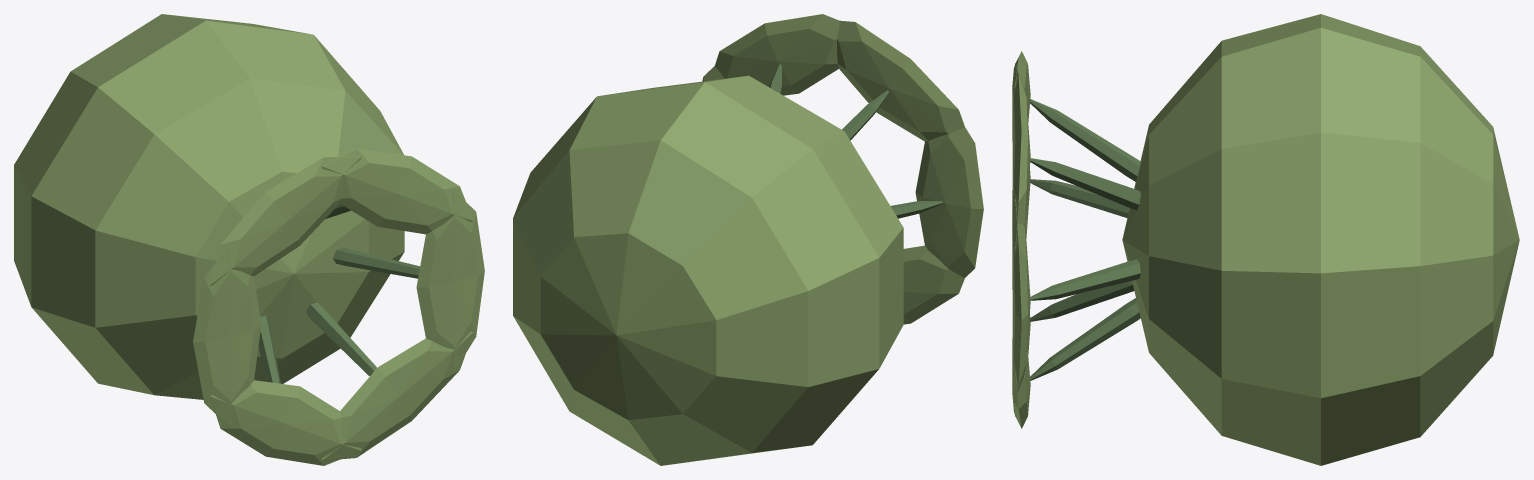
The model's file is kohlrabi.glb.
The picture shows the model from 3 angles, left to right: view 1: azimuth 30°, elevation 25°; view 2: azimuth 150°, elevation 25°; view 3: azimuth 270°, elevation 25°; orthographic projection. The views are drawn at different scales.
Parts seen in each view (by area): view 1: kohlrabi; view 2: kohlrabi; view 3: kohlrabi.
Part boxes in pixels (left/top/right/bottom): kohlrabi: left=14, top=14, right=484, bottom=465; kohlrabi: left=513, top=14, right=983, bottom=465; kohlrabi: left=1012, top=14, right=1519, bottom=465.
Bounding box in the file's own units: 0.0913 × 0.0943 × 0.1022.
